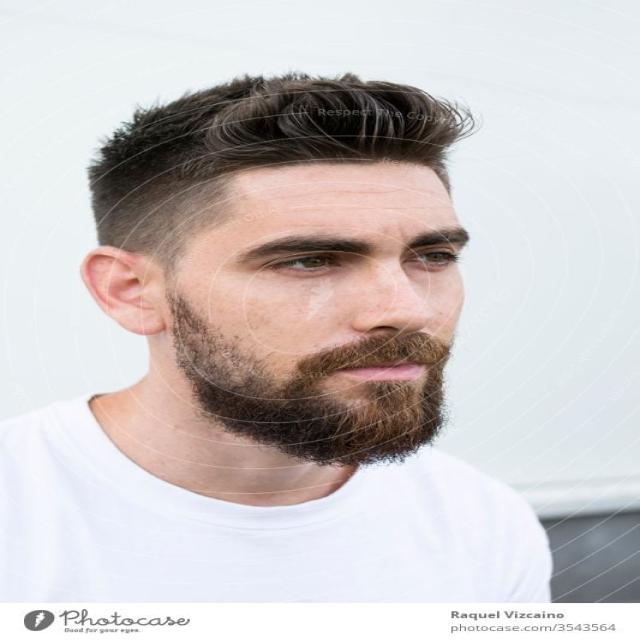no-hard-hat: (54, 47, 492, 213)
no-jacket: (0, 416, 551, 605)
no-mask: (256, 326, 482, 464)
person: (1, 61, 578, 604)
